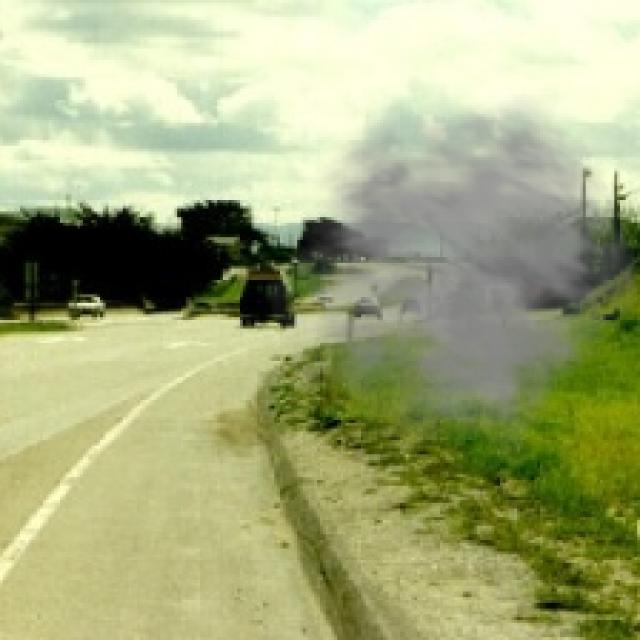smoke: (263, 94, 637, 466)
